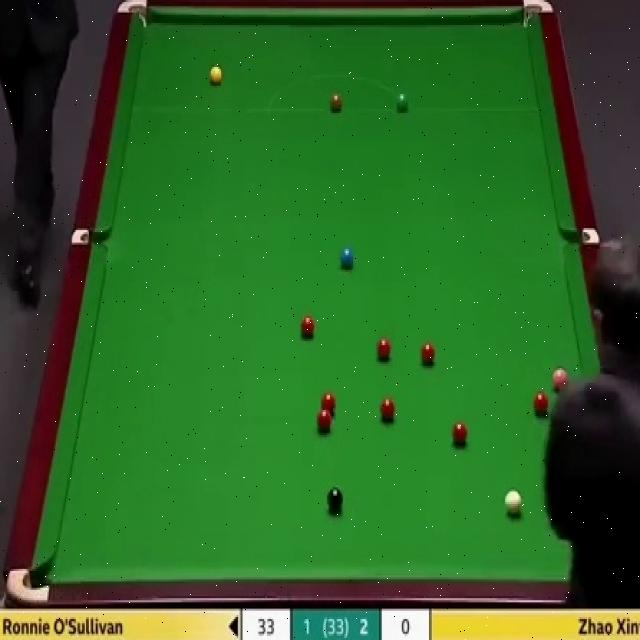black-ball: (325, 486, 344, 514)
blue-ball: (340, 244, 354, 271)
brown-ball: (329, 93, 344, 112)
green-ball: (395, 90, 410, 114)
pink-ball: (551, 369, 570, 389)
red-ball: (452, 422, 468, 451), (374, 338, 392, 362), (379, 397, 395, 423), (532, 391, 550, 413), (421, 341, 436, 366), (320, 393, 335, 414), (318, 407, 331, 431), (300, 314, 314, 336)
white-ball: (505, 488, 521, 515)
yellow-ball: (210, 67, 223, 87)
